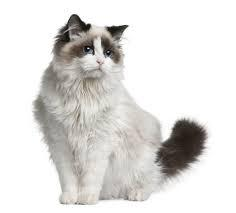ragdoll: (46, 6, 132, 93)
